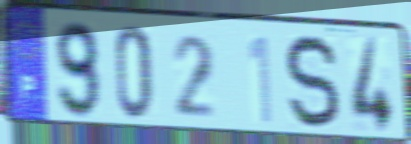0: (113, 23, 159, 124)
1: (246, 34, 273, 125)
2: (172, 33, 217, 121)
4: (349, 34, 397, 136)
9: (52, 18, 103, 122)
S: (283, 31, 343, 133)
